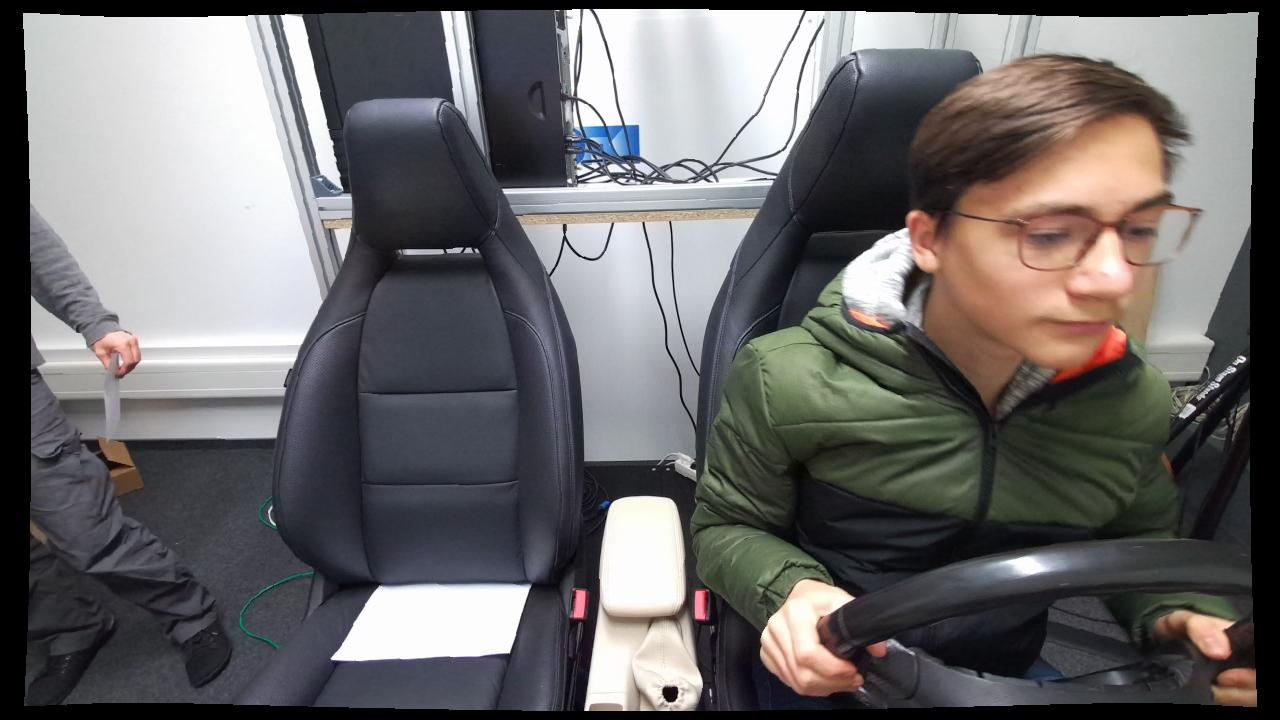Distracted: (689, 48, 1200, 710)
